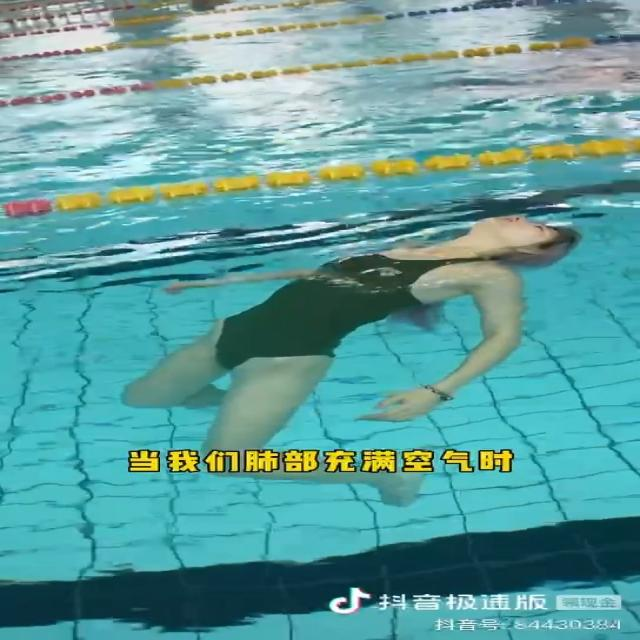Drowning: (118, 214, 582, 508)
